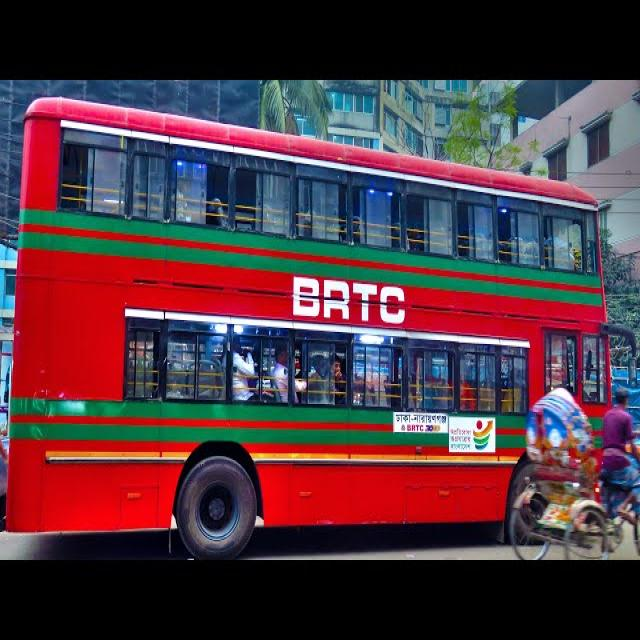Double decker: (1, 87, 640, 544)
Rickshaw: (488, 368, 640, 577)
